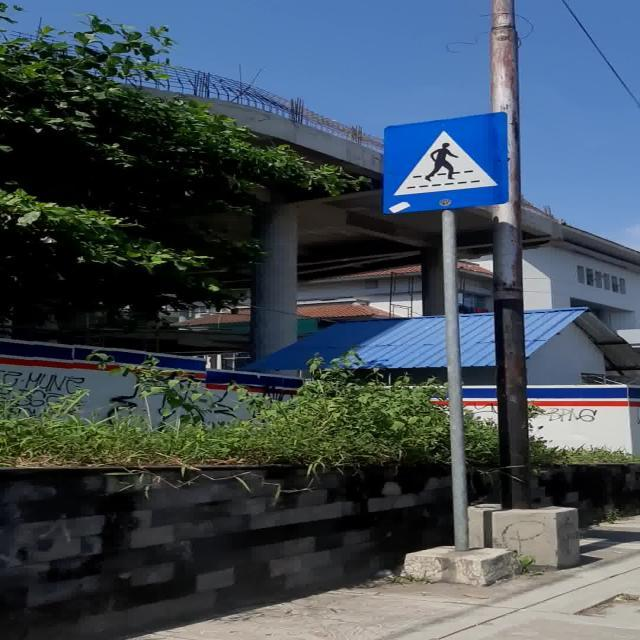Perintah Jalur Penyebrangan: (381, 111, 508, 214)
